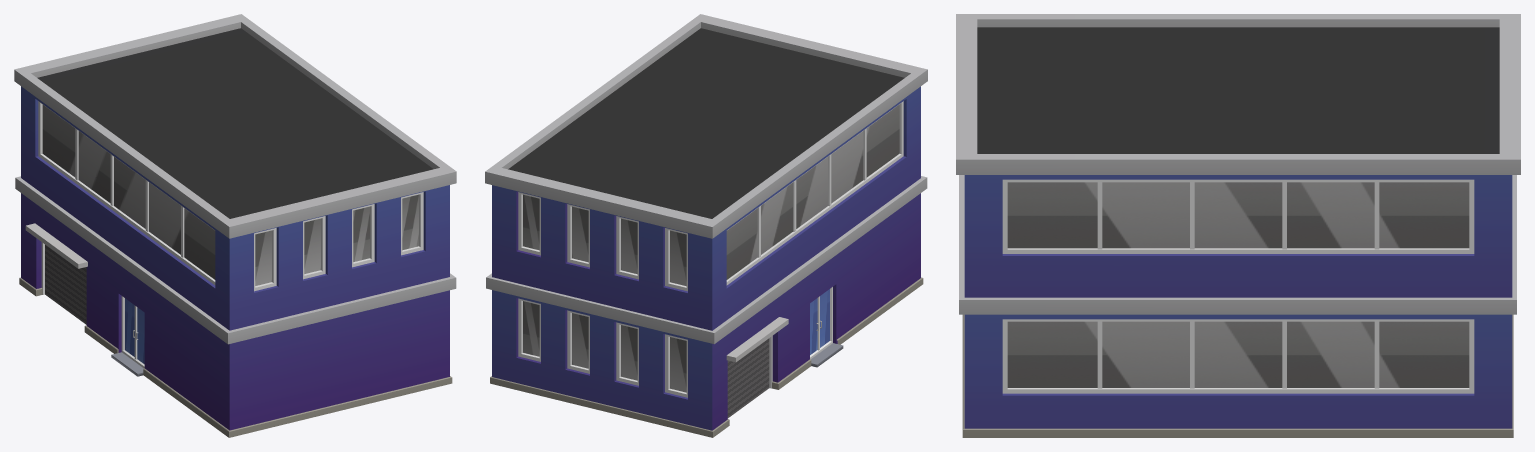
File: Building_Factory_1_C_001.fbx
3 views of the same model, side by side, from view 1: azimuth 30°, elevation 25°; view 2: azimuth 150°, elevation 25°; view 3: azimuth 270°, elevation 25° (orthographic). The views are drawn at different scales.
Parts seen in each view (by area): view 1: Building_Factory_1_C.001; view 2: Building_Factory_1_C.001; view 3: Building_Factory_1_C.001.
Boxes of the visible parts, x1,y1,x2,y2 form: Building_Factory_1_C.001: (14,14,456,437); Building_Factory_1_C.001: (485,14,927,437); Building_Factory_1_C.001: (956,14,1520,437).
Bounding box in the file's own units: 901 × 785 × 1437.
